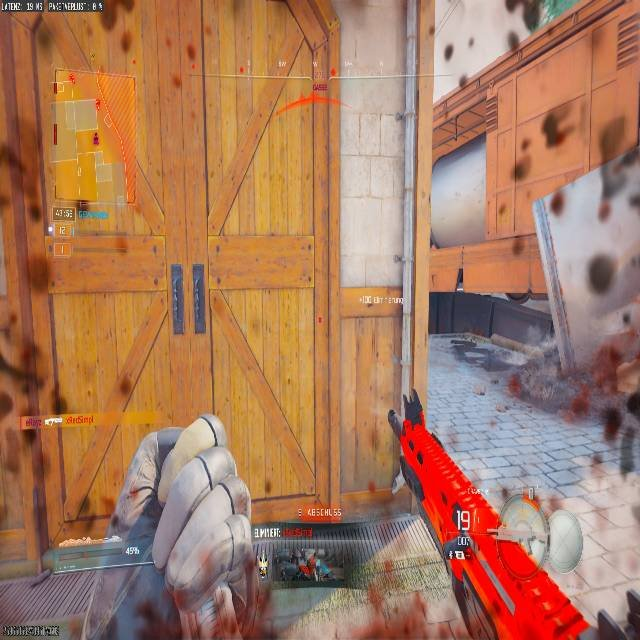player: (101, 409, 264, 640)
